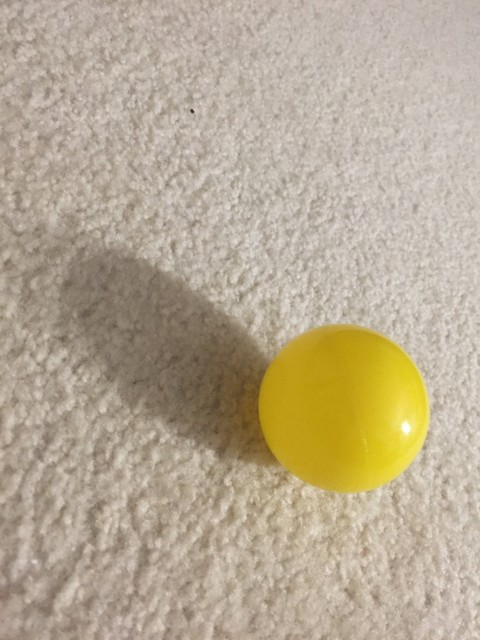ball: (252, 319, 434, 497)
